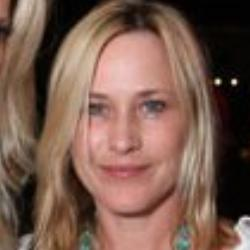face: (27, 2, 233, 243)
